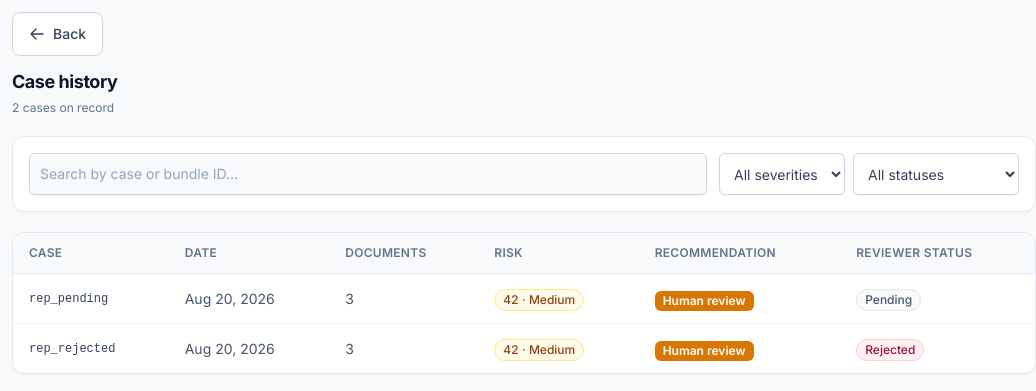
CaseHistory › filters rows by reviewer decision status
This screenshot has width=1036, height=391.
Expected: the button "rep_pending" is shown, top-left (29, 291), bottom-right (108, 307)
Expected: the button "rep_rejected" is shown, top-left (29, 341), bottom-right (115, 357)
Select "Rejected" in the 2nd dropdown named "filter by reviewer status" at coordinates (936, 174), box top-left (853, 153), bottom-right (1019, 195)
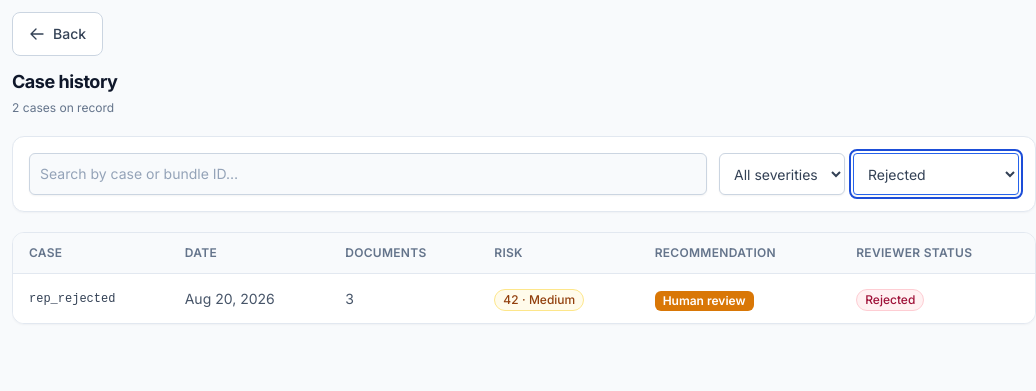
Expected: the button "rep_rejected" is shown, top-left (29, 291), bottom-right (115, 307)
Expected: the button "rep_pending" is gone
